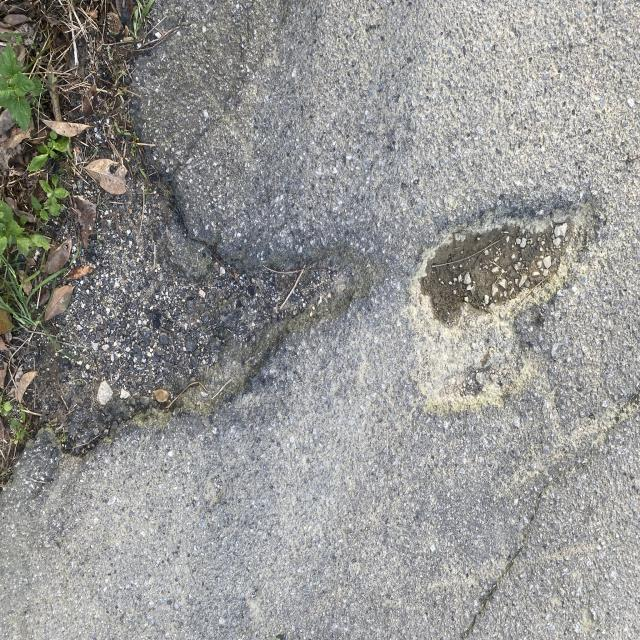pothole: (59, 121, 384, 407), (408, 164, 640, 338)
